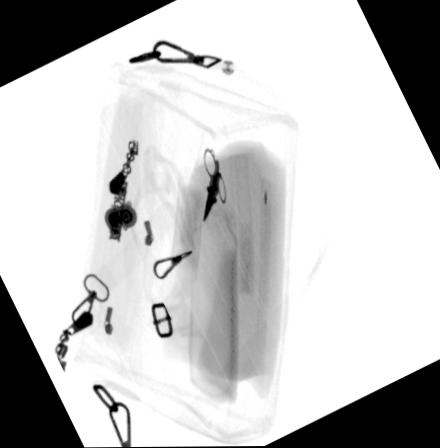Scissors: (201, 146, 228, 222)
